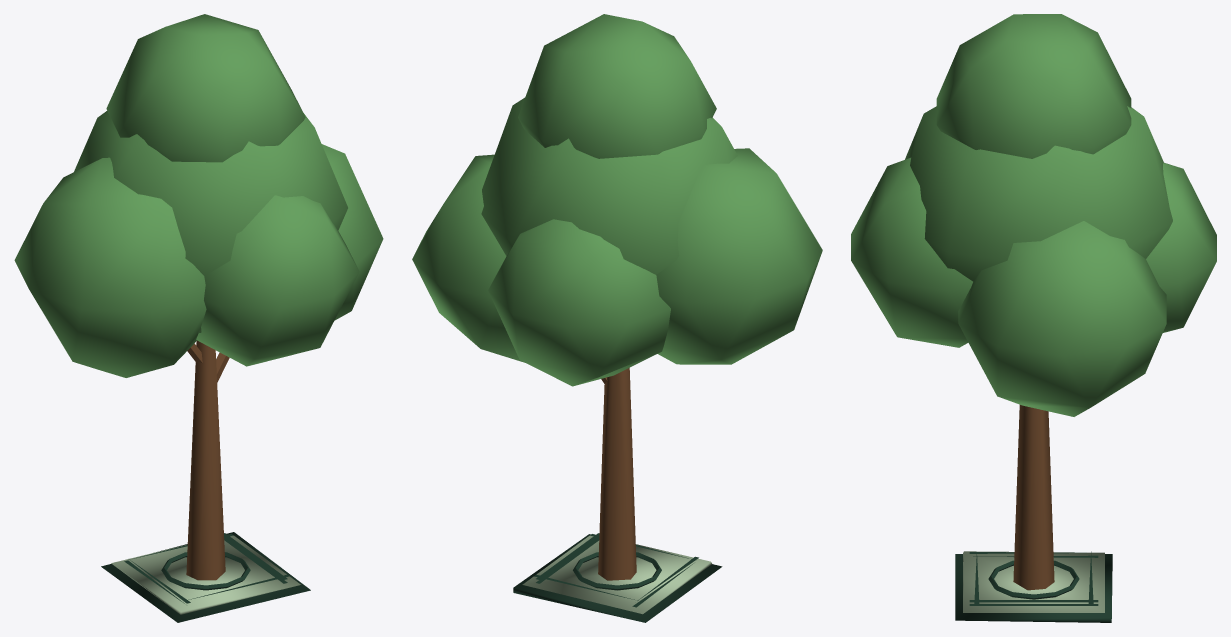
The model's file is lod_sidewalk_tree_grate.glb.
The picture shows the model from 3 angles, left to right: view 1: azimuth 30°, elevation 25°; view 2: azimuth 150°, elevation 25°; view 3: azimuth 270°, elevation 25°; orthographic projection. The views are drawn at different scales.
Visible parts, largest first — view 1: sidewalk_tree_grate; view 2: sidewalk_tree_grate; view 3: sidewalk_tree_grate.
Part boxes in pixels (x1,y1,x2,y2): sidewalk_tree_grate: (14,14,383,622); sidewalk_tree_grate: (412,14,822,622); sidewalk_tree_grate: (851,14,1216,622).
Size of the model in its own units: 2.99 by 4.39 by 2.56.
